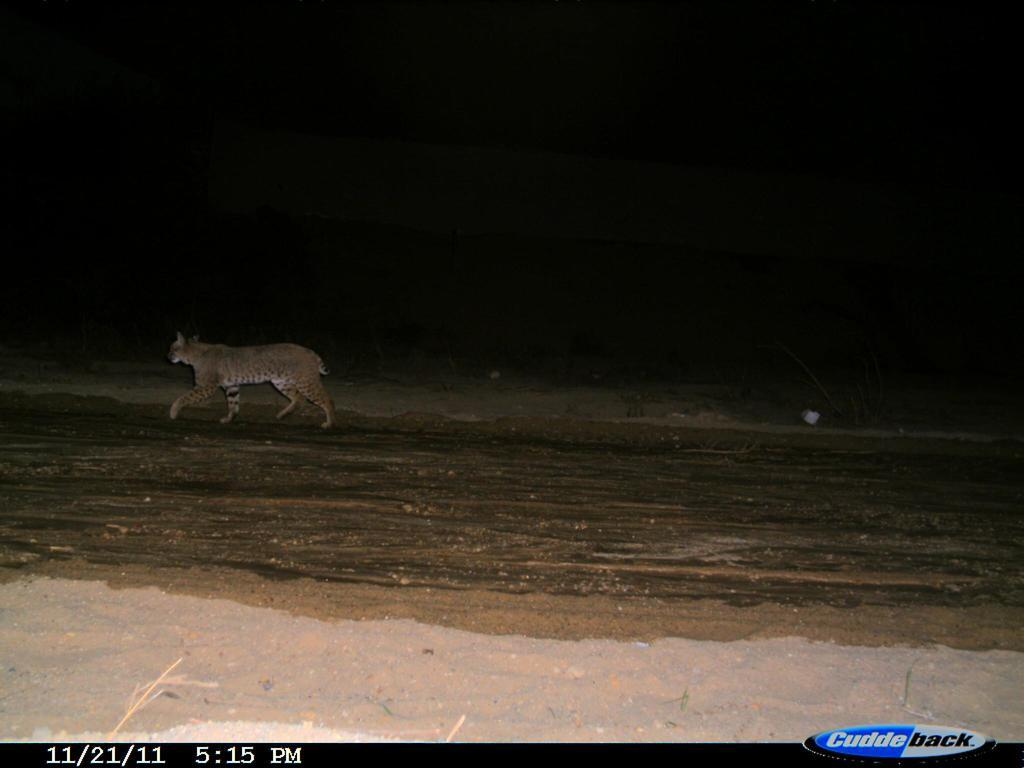bobcat: (149, 322, 357, 444)
